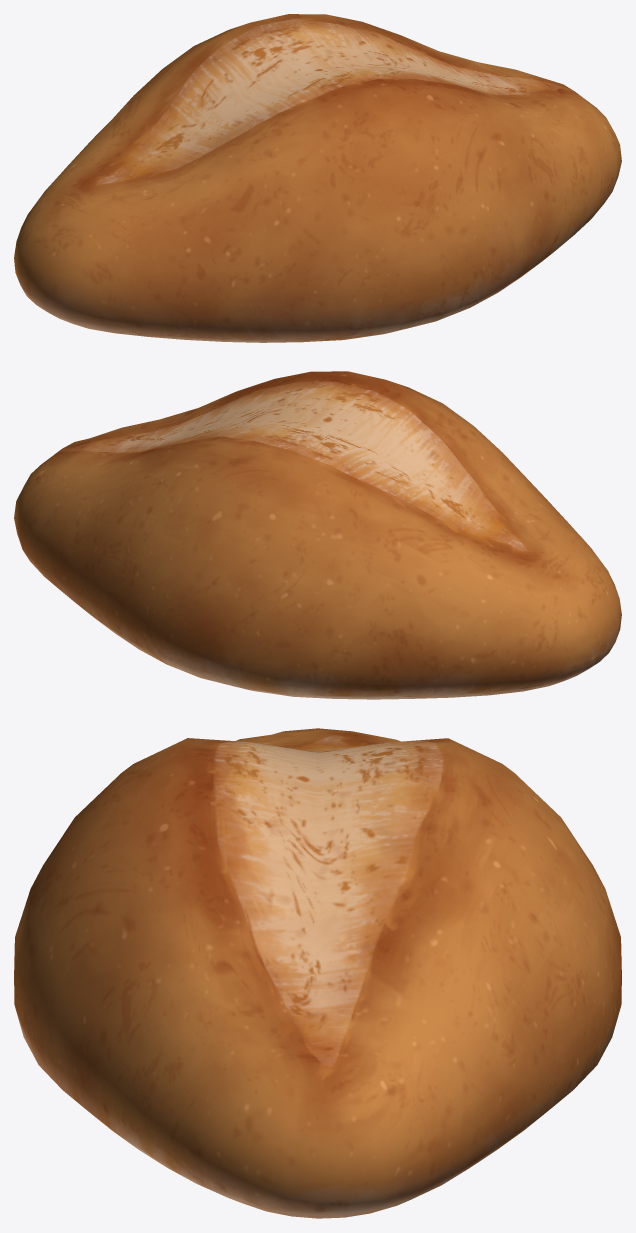
The model's file is bolillo.glb.
3 views of the same model, one above another, from view 1: azimuth 30°, elevation 25°; view 2: azimuth 150°, elevation 25°; view 3: azimuth 270°, elevation 25° (orthographic). The views are drawn at different scales.
Parts seen in each view (by area): view 1: Object_2; view 2: Object_2; view 3: Object_2.
Boxes of the visible parts, x1=… form: Object_2: x1=14, y1=14, x2=621, y2=342; Object_2: x1=14, y1=371, x2=621, y2=699; Object_2: x1=14, y1=728, x2=621, y2=1218.
Bounding box in the file's own units: 0.2365 × 0.087 × 0.1553.
Materials: 1 (1 with a texture image).
